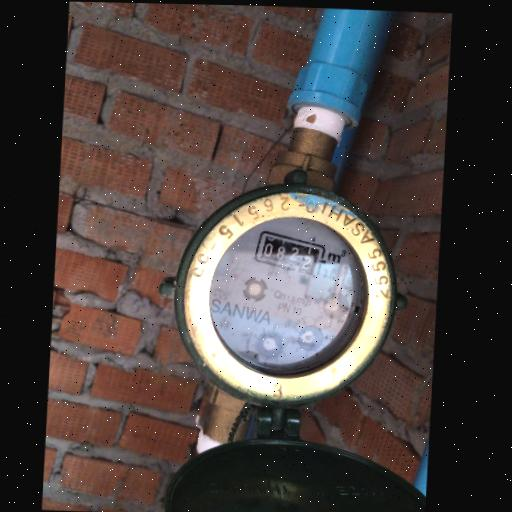0: (260, 236, 278, 261)
2: (297, 246, 320, 276), (285, 243, 305, 267)
8: (273, 239, 291, 263)
border_water_meter_number: (251, 229, 327, 277)
